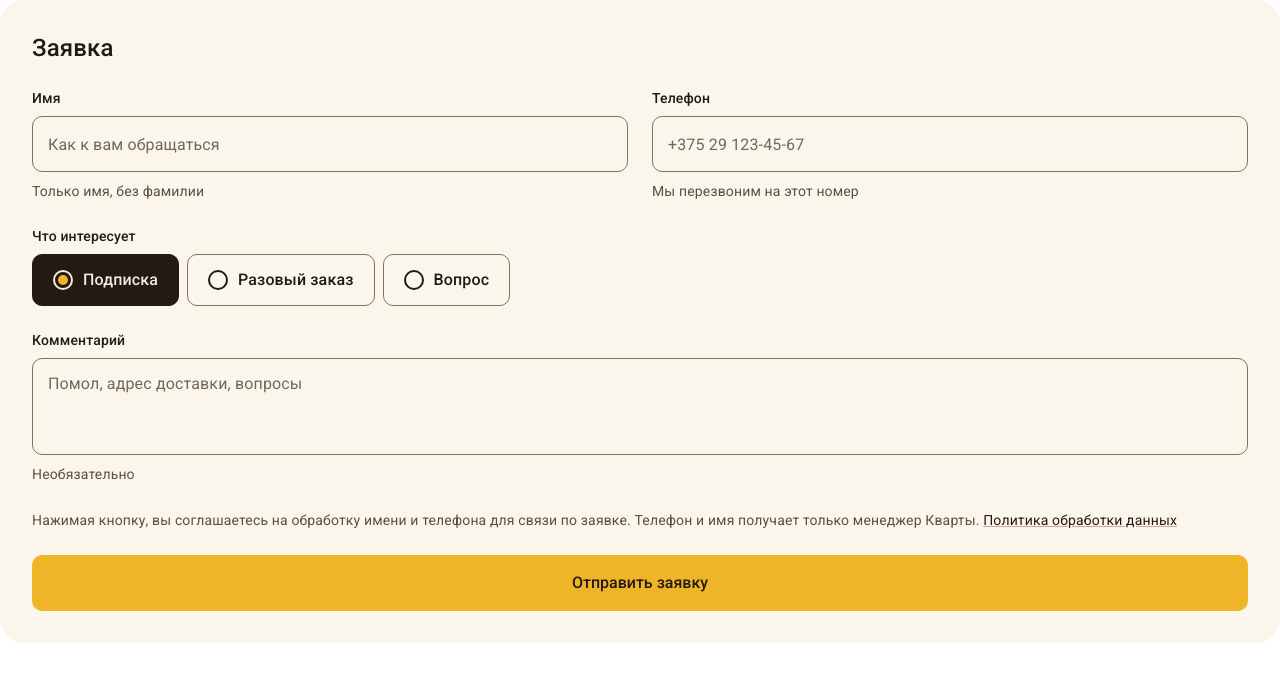
LeadForm server 400 › focuses the first enabled radio after a server error on interest
In the field labelled "Имя": [330, 144] box [32,116,628,172], type "Анна"
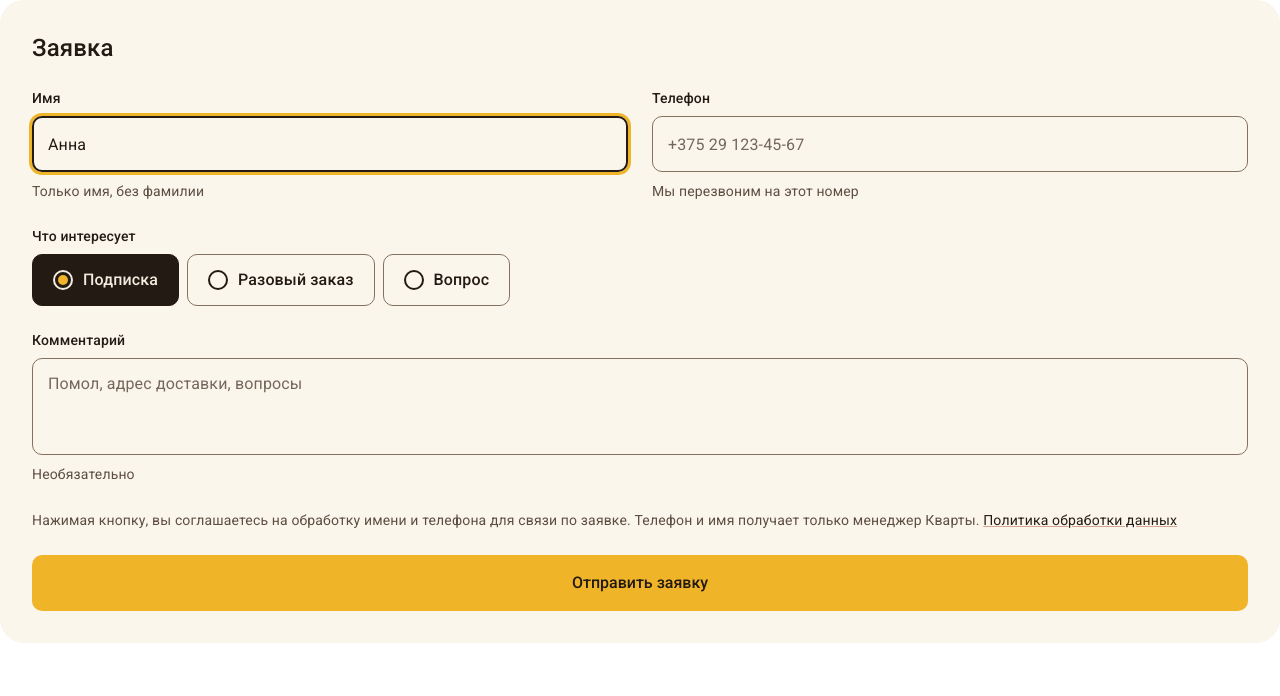
In the field labelled "Телефон": [950, 144] box [652,116,1248,172], type "80291234567"
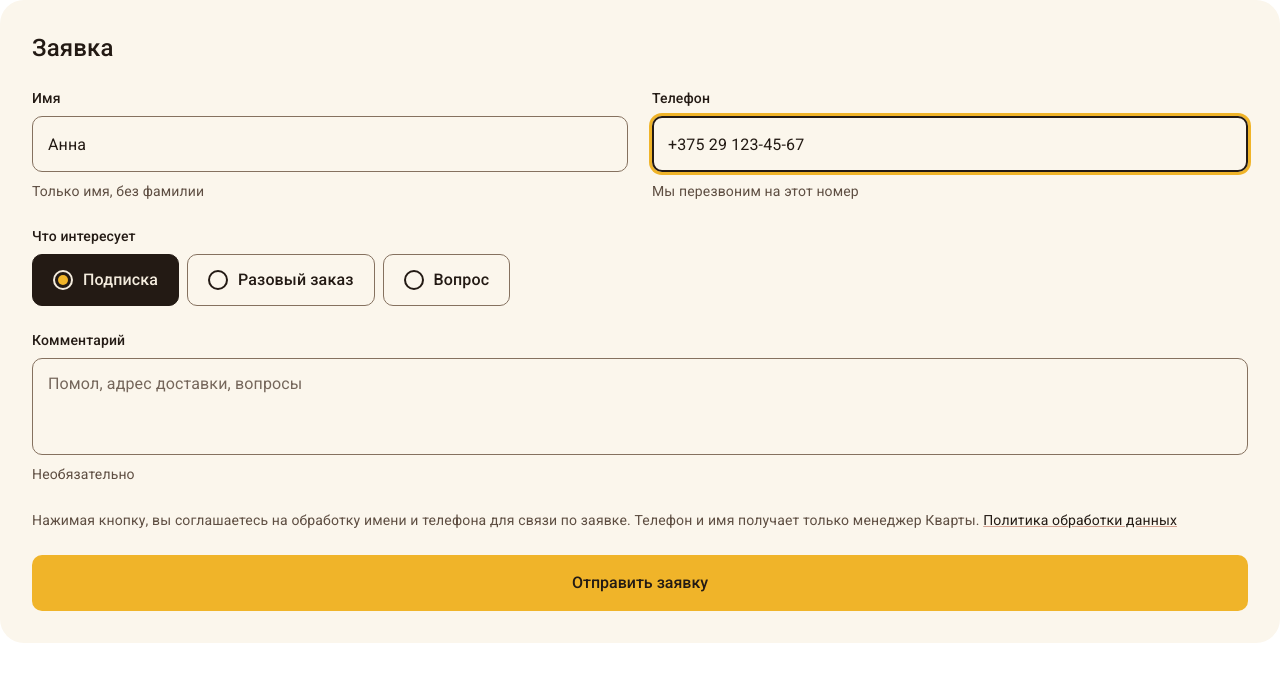
Click the button "Отправить заявку": [640, 583] box [32,555,1248,611]
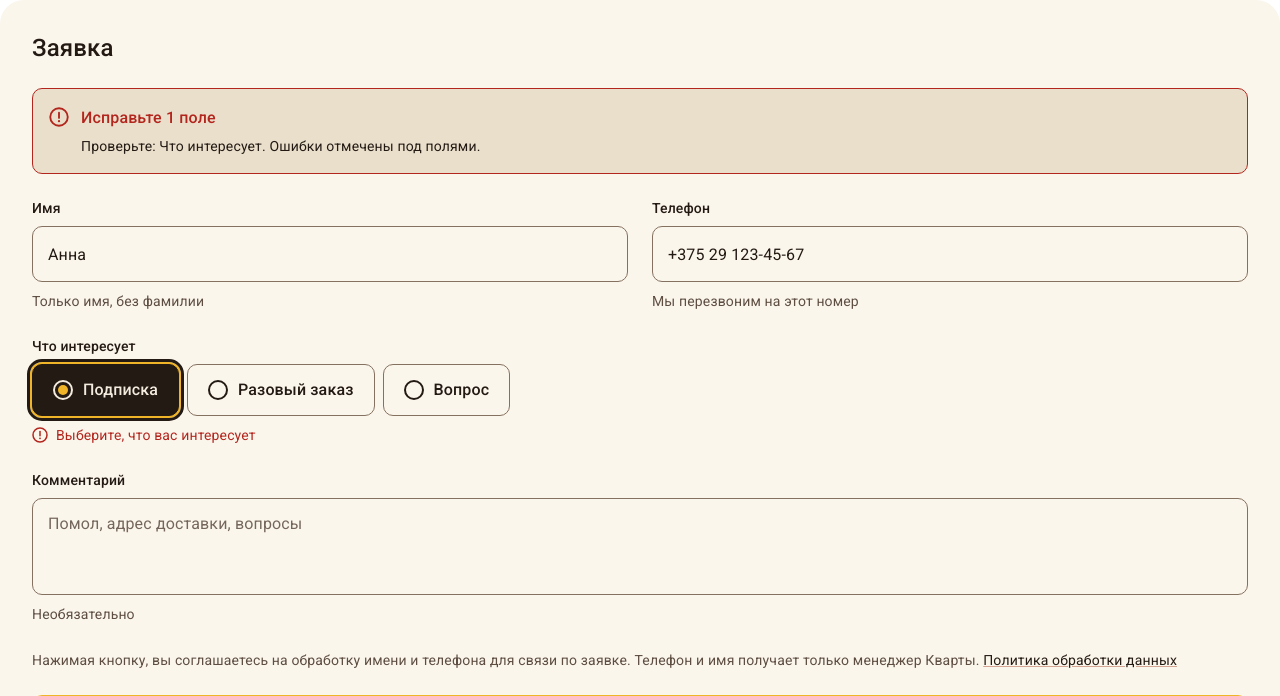
Expected: the text "Выберите, что вас интересует" is shown, [56,424,256,446]
